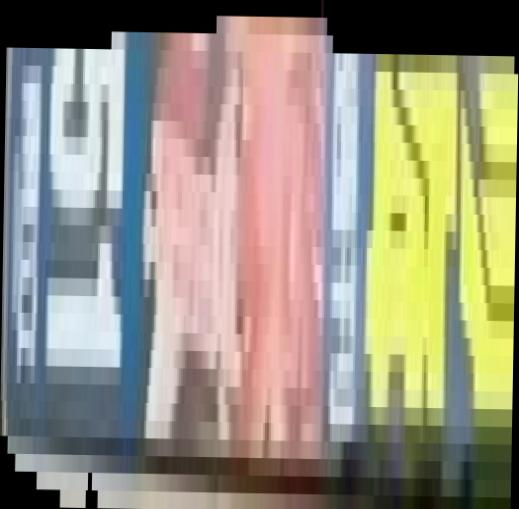flat: (1, 1, 519, 509)
